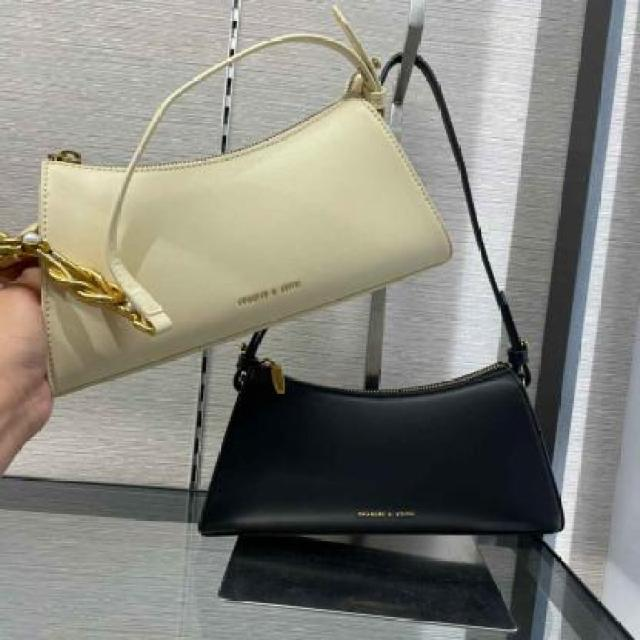Bag: (0, 0, 472, 407), (202, 226, 596, 569)
